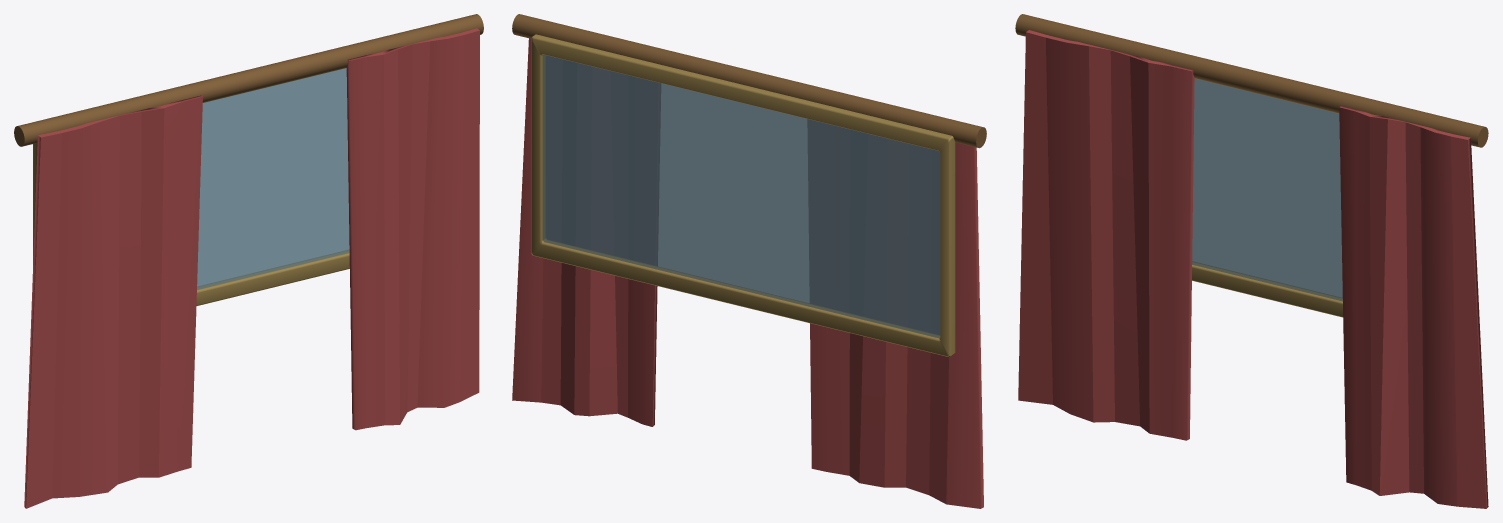
Rendered from WindowGeo.fbx.
The picture shows the model from 3 angles, left to right: view 1: azimuth 30°, elevation 25°; view 2: azimuth 150°, elevation 25°; view 3: azimuth 330°, elevation 25°; orthographic projection.
Visible parts, largest first — view 1: WindowGeo; view 2: WindowGeo; view 3: WindowGeo.
Part boxes in pixels (bbox=[...]): WindowGeo: bbox=[14, 14, 483, 508]; WindowGeo: bbox=[512, 14, 986, 508]; WindowGeo: bbox=[1015, 14, 1488, 508].
Bounding box in the file's own units: 305 × 240 × 24.49.
